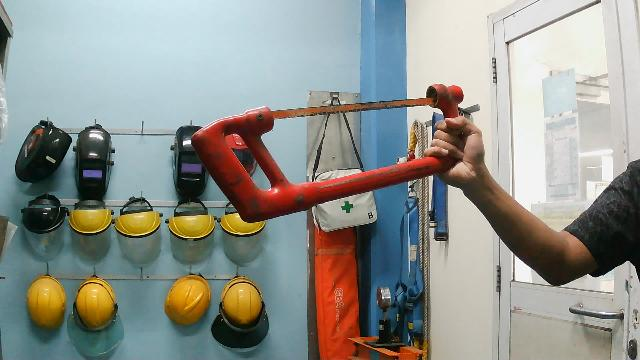gergaji_besi: (174, 73, 506, 237)
